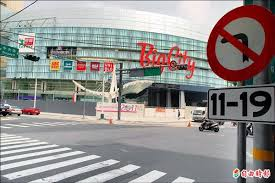No_left_turn: (206, 6, 275, 81)
